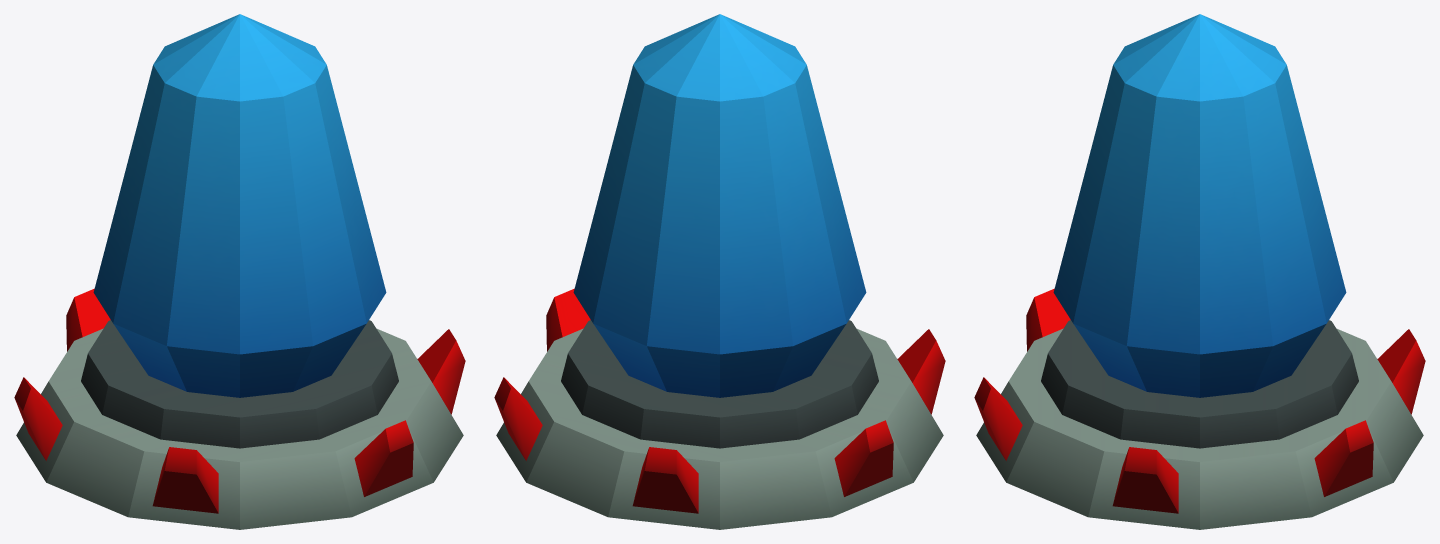
3 renders of one model, left to right at view 1: azimuth 30°, elevation 25°; view 2: azimuth 150°, elevation 25°; view 3: azimuth 270°, elevation 25°, orthographic.
Parts seen in each view (by area): view 1: object.006; view 2: object.006; view 3: object.006.
Part boxes in pixels (x1=…): object.006: x1=14, y1=14, x2=465, y2=529; object.006: x1=494, y1=14, x2=945, y2=529; object.006: x1=974, y1=14, x2=1425, y2=529.
Size of the model in its own units: 182 by 188 by 182.
